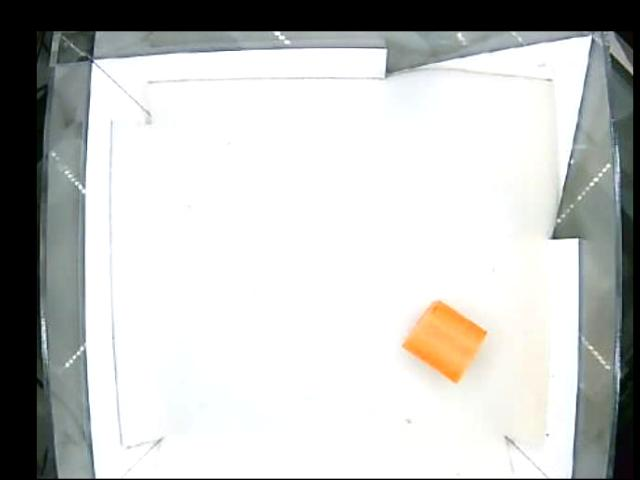Carrot: (402, 299, 486, 379)
